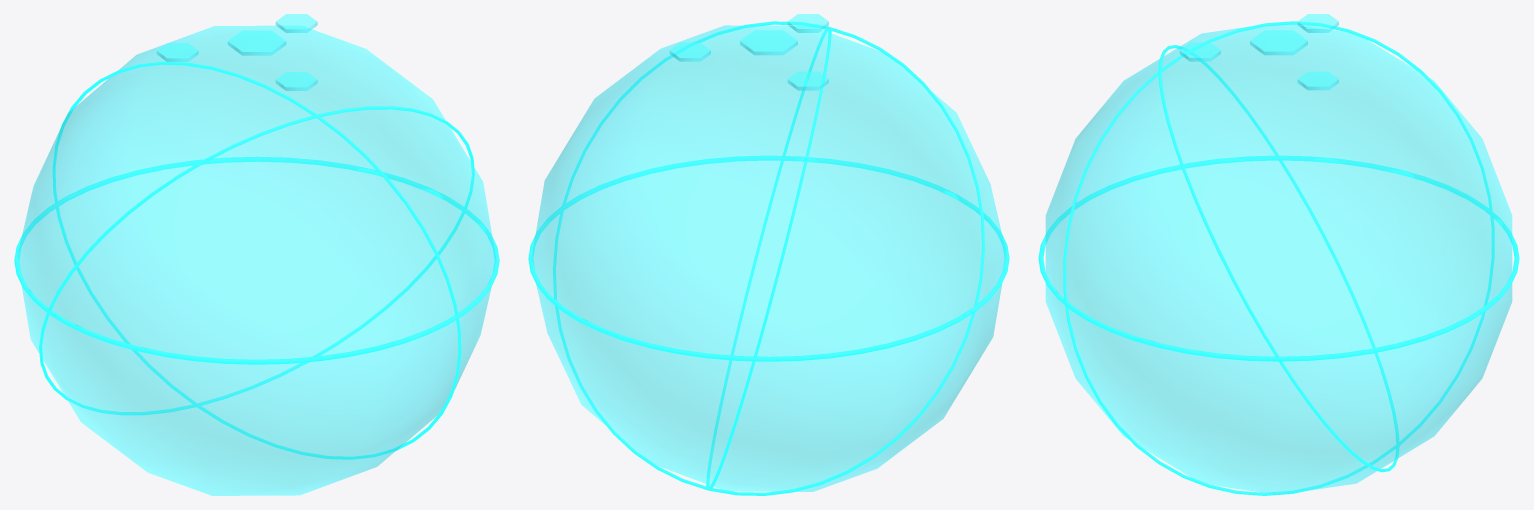
The model's file is enemy_warden_shield.glb.
3 views of the same model, side by side, from view 1: azimuth 30°, elevation 25°; view 2: azimuth 150°, elevation 25°; view 3: azimuth 270°, elevation 25° (orthographic).
Visible parts, largest first — view 1: warden_shield_bubble, warden_shield_seam_h, warden_shield_seam_b, warden_shield_seam_a, warden_shield_apex, warden_shield_node2, warden_shield_node1, warden_shield_node0; view 2: warden_shield_bubble, warden_shield_seam_h, warden_shield_seam_a, warden_shield_seam_b, warden_shield_apex, warden_shield_node1, warden_shield_node2, warden_shield_node0; view 3: warden_shield_bubble, warden_shield_seam_h, warden_shield_seam_b, warden_shield_seam_a, warden_shield_apex, warden_shield_node2, warden_shield_node0, warden_shield_node1.
Boxes of the visible parts, x1,y1,x2,y2 form: warden_shield_bubble: (17, 25, 496, 495); warden_shield_seam_h: (14, 156, 499, 364); warden_shield_seam_b: (52, 61, 461, 459); warden_shield_seam_a: (39, 106, 474, 415); warden_shield_apex: (227, 30, 286, 55); warden_shield_node2: (275, 14, 317, 32); warden_shield_node1: (156, 43, 198, 61); warden_shield_node0: (275, 72, 317, 90); warden_shield_bubble: (531, 25, 1006, 491); warden_shield_seam_h: (528, 155, 1009, 361); warden_shield_seam_a: (553, 21, 984, 495); warden_shield_seam_b: (706, 26, 831, 490); warden_shield_apex: (740, 30, 797, 55); warden_shield_node1: (787, 71, 828, 90); warden_shield_node2: (669, 42, 710, 61); warden_shield_node0: (787, 14, 828, 32); warden_shield_bubble: (1045, 24, 1512, 494); warden_shield_seam_h: (1038, 155, 1519, 361); warden_shield_seam_b: (1063, 21, 1494, 495); warden_shield_seam_a: (1158, 45, 1399, 472); warden_shield_apex: (1250, 30, 1307, 55); warden_shield_node2: (1297, 71, 1338, 90); warden_shield_node0: (1179, 42, 1220, 61); warden_shield_node1: (1297, 14, 1338, 32).
Size of the model in its own units: 2.32 by 2.29 by 2.32.
